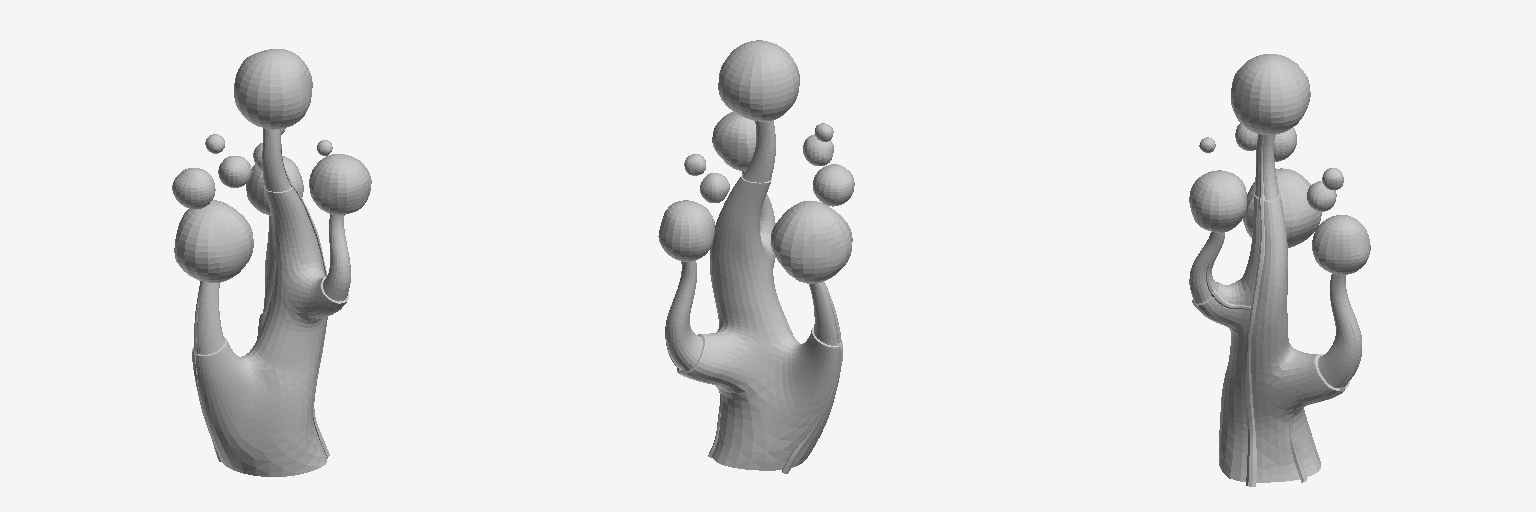
Rendered from tree-02.obj.
3 views of the same model, side by side, from view 1: azimuth 30°, elevation 25°; view 2: azimuth 150°, elevation 25°; view 3: azimuth 270°, elevation 25° (orthographic).
Parts seen in each view (by area): view 1: trunk tree_02, tree_02 bubble_01 bubbles, tree_02 bubbles bubble_03, tree_02 bubbles bubble_02, tree_02 bubbles bubble_06, tree_02 bubbles bubble_04, tree_02 vines, tree_02 bubbles bubble_09; view 2: trunk tree_02, tree_02 bubble_01 bubbles, tree_02 bubbles bubble_03, tree_02 bubbles bubble_04, tree_02 bubbles bubble_02, tree_02 bubbles bubble_06, tree_02 vines, tree_02 bubbles bubble_09, tree_02 bubbles bubble_08; view 3: trunk tree_02, tree_02 bubble_01 bubbles, tree_02 vines, tree_02 bubbles bubble_02, tree_02 bubbles bubble_04, tree_02 bubbles bubble_03, tree_02 bubbles bubble_08, tree_02 bubbles bubble_06.
Part boxes in pixels (left/top/right/bottom): trunk tree_02: left=192, top=128, right=350, bottom=476; tree_02 bubble_01 bubbles: left=234, top=49, right=312, bottom=129; tree_02 bubbles bubble_03: left=174, top=200, right=253, bottom=282; tree_02 bubbles bubble_02: left=309, top=154, right=371, bottom=214; tree_02 bubbles bubble_06: left=172, top=168, right=215, bottom=209; tree_02 bubbles bubble_04: left=246, top=156, right=303, bottom=215; tree_02 vines: left=192, top=144, right=329, bottom=461; tree_02 bubbles bubble_09: left=218, top=156, right=251, bottom=187; trunk tree_02: left=666, top=120, right=840, bottom=470; tree_02 bubble_01 bubbles: left=718, top=40, right=799, bottom=121; tree_02 bubbles bubble_03: left=771, top=201, right=852, bottom=283; tree_02 bubbles bubble_04: left=658, top=200, right=714, bottom=261; tree_02 bubbles bubble_02: left=712, top=112, right=755, bottom=170; tree_02 bubbles bubble_06: left=813, top=164, right=854, bottom=206; tree_02 vines: left=665, top=261, right=842, bottom=473; tree_02 bubbles bubble_09: left=803, top=134, right=833, bottom=165; tree_02 bubbles bubble_08: left=700, top=173, right=729, bottom=202; trunk tree_02: left=1189, top=134, right=1361, bottom=482; tree_02 bubble_01 bubbles: left=1231, top=54, right=1310, bottom=134; tree_02 vines: left=1206, top=135, right=1357, bottom=486; tree_02 bubbles bubble_02: left=1189, top=170, right=1246, bottom=232; tree_02 bubbles bubble_04: left=1312, top=215, right=1370, bottom=274; tree_02 bubbles bubble_03: left=1243, top=168, right=1321, bottom=247; tree_02 bubbles bubble_08: left=1307, top=181, right=1336, bottom=211; tree_02 bubbles bubble_06: left=1274, top=128, right=1296, bottom=161.
Size of the model in its own units: 1.74 by 4.14 by 1.66.